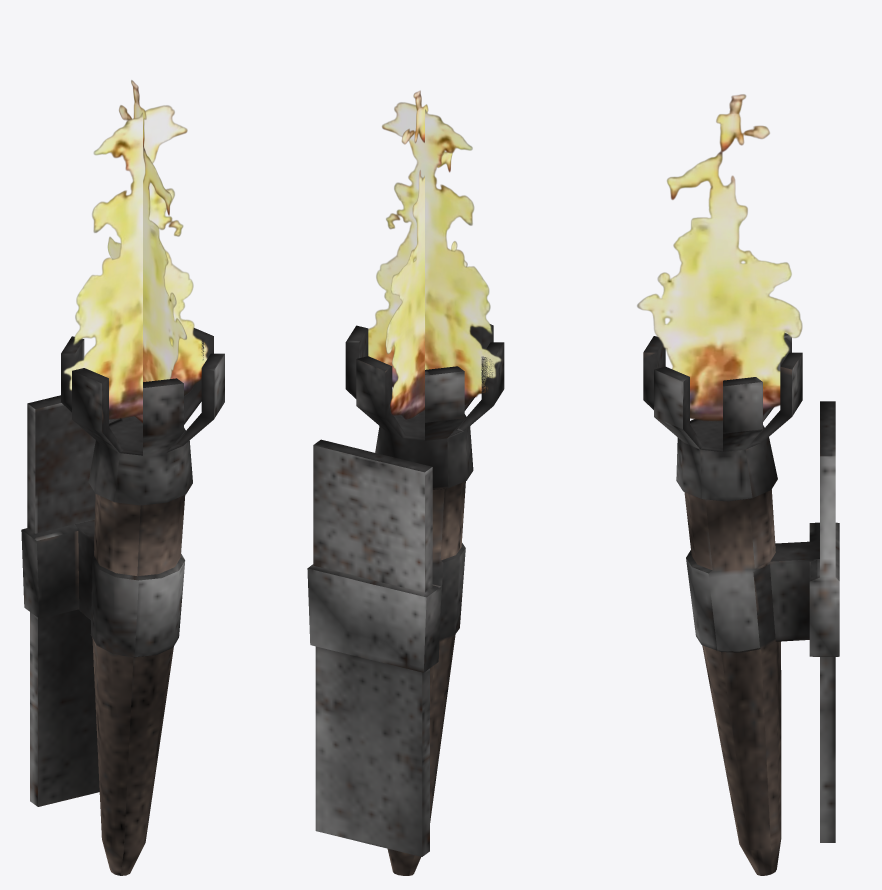
Rendered from torch.glb.
The picture shows the model from 3 angles, left to right: view 1: azimuth 30°, elevation 25°; view 2: azimuth 150°, elevation 25°; view 3: azimuth 270°, elevation 25°; orthographic projection. The views are drawn at different scales.
Visible parts, largest first — view 1: torch, fire; view 2: torch, fire; view 3: torch, fire.
Part boxes in pixels (box(x1,y1,x2,y2)): torch: box(21, 328, 224, 875); fire: box(63, 80, 208, 423); torch: box(307, 324, 504, 875); fire: box(368, 90, 501, 419); torch: box(643, 333, 839, 875); fire: box(637, 94, 802, 421).
Bounding box in the file's own units: 0.7178 × 2.18 × 0.7178.
Materials: 2 (2 with a texture image).
